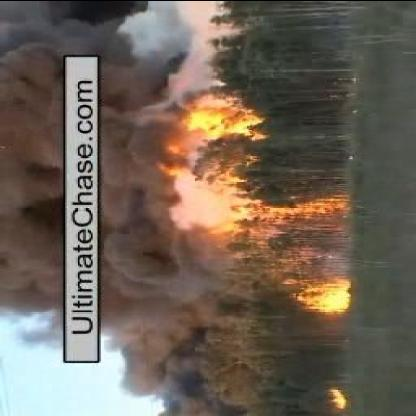-: (101, 26, 180, 361), (0, 26, 60, 332)
foggia-v2-map80-epoch100 - v1 4323: (292, 279, 352, 311)
